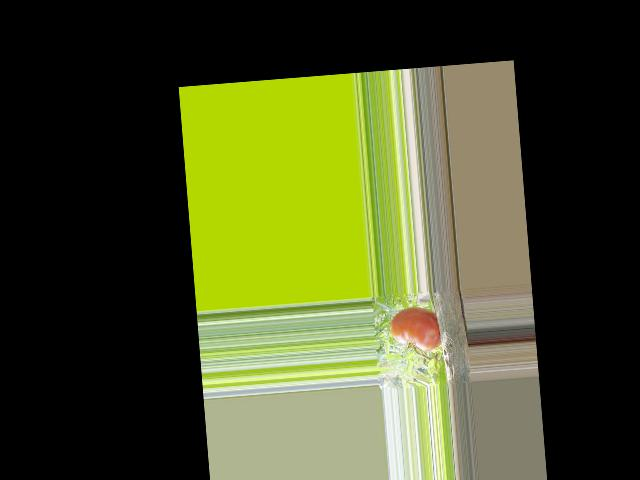tomato: (388, 305, 442, 353)
